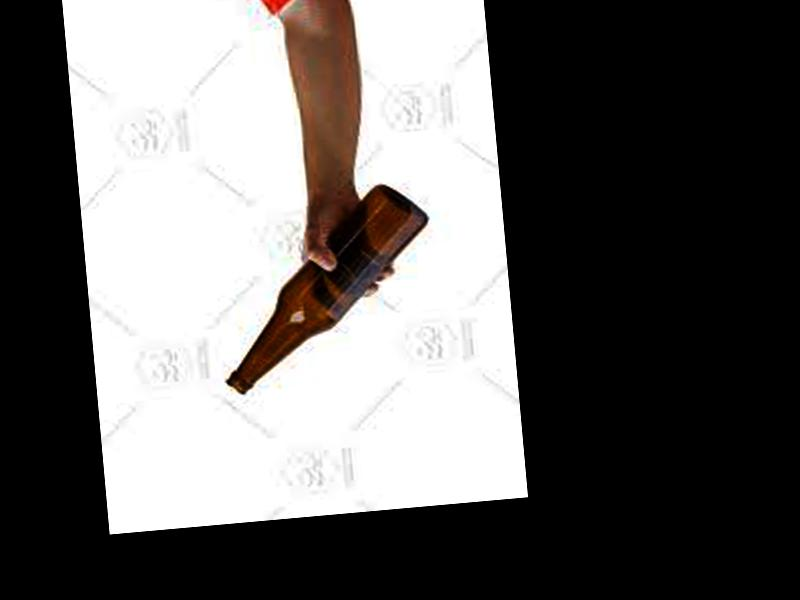Beer: (211, 180, 443, 394)
